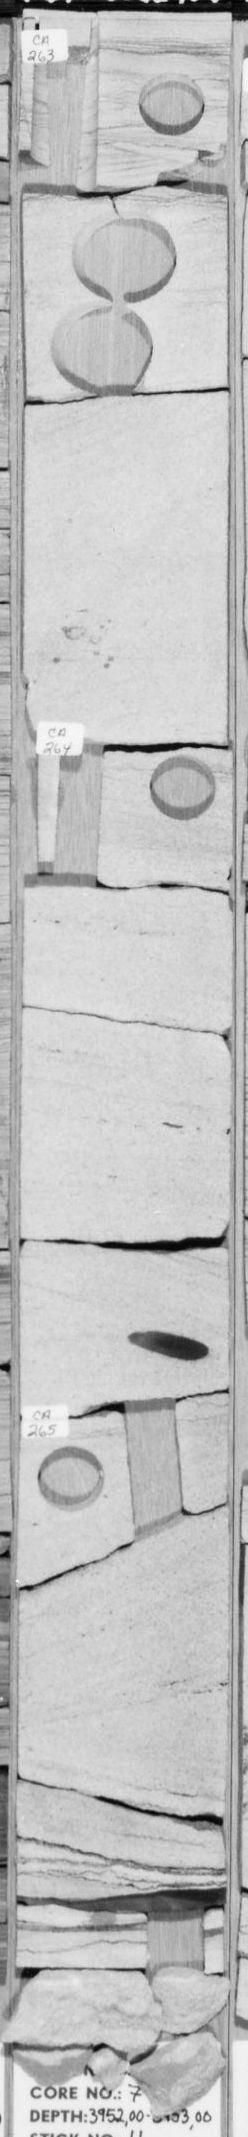hplug: (31, 1438, 110, 1516), (135, 64, 211, 138), (144, 750, 219, 820)
scal: (67, 209, 185, 304), (46, 304, 164, 398)
vplug: (30, 11, 108, 203), (119, 1392, 188, 1550), (46, 735, 113, 889), (139, 1898, 208, 1980)
